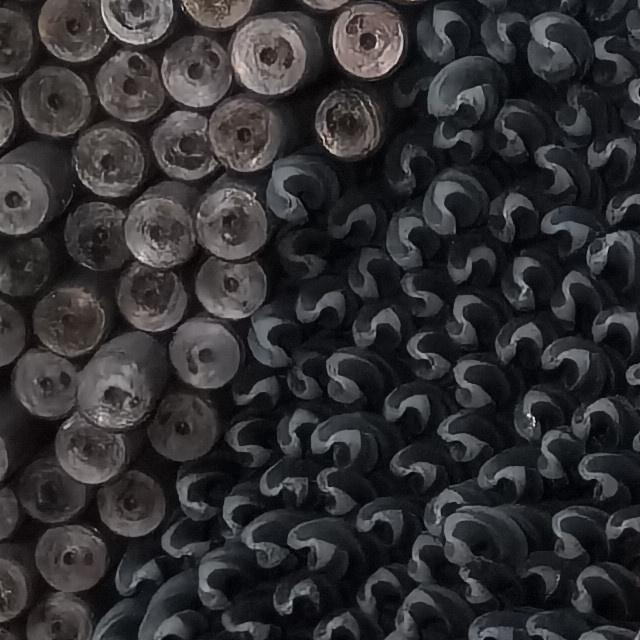tool: (76, 329, 170, 428), (230, 12, 324, 98), (0, 141, 72, 238), (206, 95, 288, 175), (124, 180, 196, 266), (328, 1, 406, 76), (138, 390, 220, 460), (90, 461, 168, 534), (71, 121, 145, 197), (13, 451, 87, 526), (52, 409, 127, 483), (34, 283, 108, 358), (8, 344, 79, 418), (170, 314, 242, 386), (162, 34, 234, 106), (18, 67, 90, 138), (96, 46, 167, 118), (150, 111, 220, 181), (116, 258, 186, 328), (34, 524, 106, 592), (199, 188, 268, 258), (62, 198, 124, 269), (196, 254, 264, 318), (319, 88, 381, 158), (36, 0, 103, 61), (26, 592, 92, 640), (104, 0, 173, 45), (0, 235, 50, 293), (0, 0, 34, 78), (0, 536, 27, 626), (180, 0, 262, 28), (0, 289, 25, 370), (0, 464, 21, 545), (0, 82, 18, 155)
tool_b: (309, 409, 405, 471), (290, 519, 375, 582), (265, 154, 339, 225), (431, 55, 510, 119), (320, 177, 396, 243), (417, 0, 492, 62), (528, 13, 592, 85), (424, 167, 491, 235), (554, 82, 622, 149), (489, 99, 558, 165), (541, 336, 616, 396), (379, 119, 437, 194), (388, 434, 458, 494), (566, 561, 640, 617), (530, 143, 600, 202), (396, 585, 470, 640), (439, 407, 514, 461), (476, 444, 545, 502), (547, 267, 615, 325), (382, 379, 451, 435), (446, 289, 508, 351), (195, 544, 253, 610), (280, 275, 352, 328), (259, 459, 330, 512), (178, 455, 235, 521), (352, 494, 420, 549), (248, 302, 302, 369), (499, 248, 555, 312), (513, 386, 577, 442), (308, 464, 378, 515), (452, 349, 514, 406), (548, 506, 609, 563), (384, 206, 441, 266), (243, 510, 300, 570), (586, 226, 640, 289), (568, 395, 636, 445), (273, 220, 331, 278), (575, 453, 638, 506), (540, 202, 600, 257), (348, 560, 403, 620), (459, 557, 525, 605), (446, 228, 500, 286), (224, 409, 278, 467), (346, 303, 410, 351), (588, 127, 640, 186), (346, 246, 402, 300), (478, 5, 529, 64), (220, 588, 281, 637), (516, 547, 567, 604), (270, 569, 333, 615), (538, 425, 586, 485), (388, 57, 436, 116), (486, 189, 538, 243), (590, 300, 639, 356), (400, 265, 452, 317), (492, 320, 544, 372), (401, 532, 452, 582), (591, 35, 637, 88), (404, 327, 449, 379), (306, 609, 379, 640), (227, 362, 277, 407), (274, 406, 316, 458), (422, 487, 468, 534), (606, 507, 640, 567), (556, 0, 628, 27), (524, 611, 589, 640), (468, 610, 527, 640), (624, 352, 640, 388)
